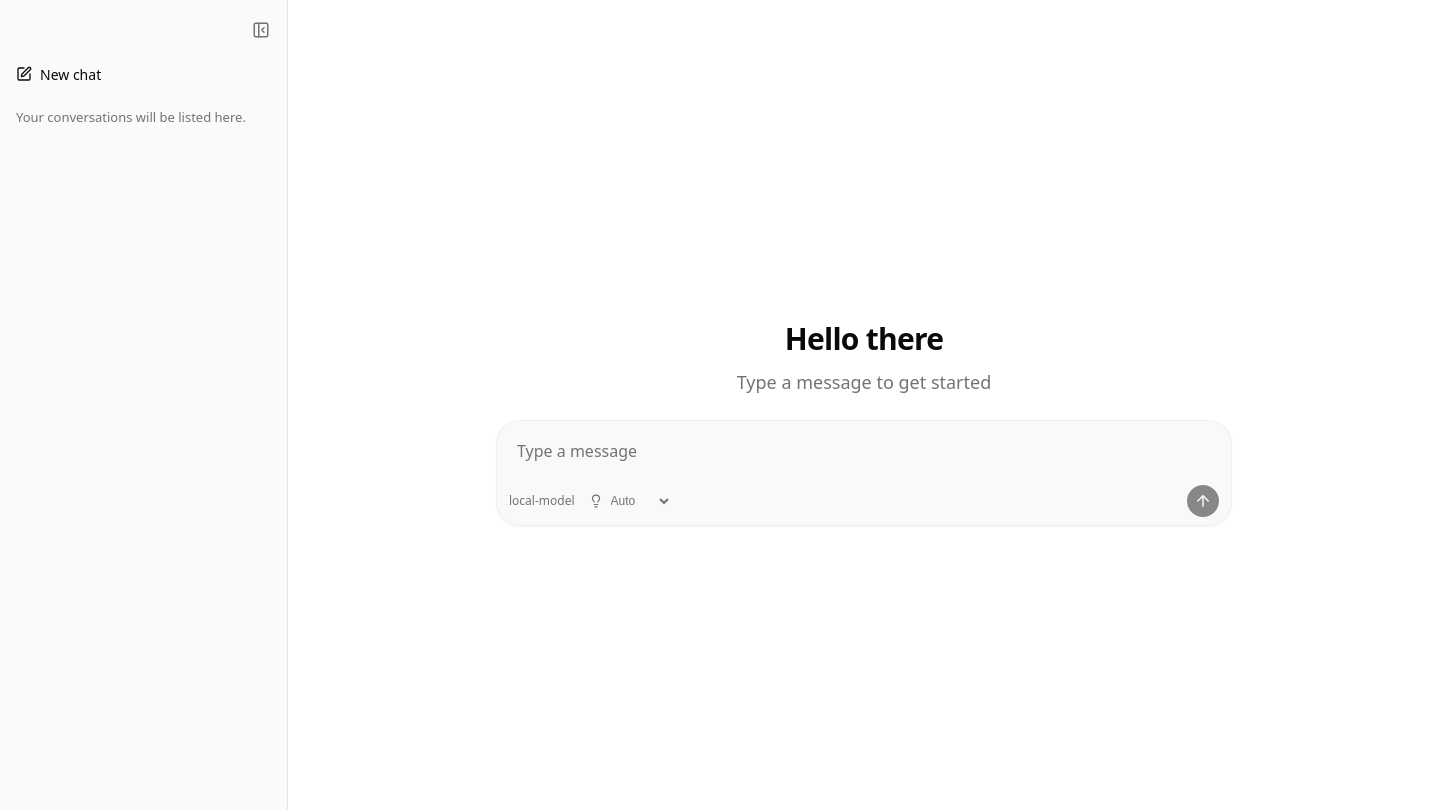
stopping keeps what was written, and says nothing was stored
Expected: the link "New chat" is shown, 16,64 -> 101,84
Type "Tell me a story" into the text box labelled "message". click: [864, 457]
box: 509,433 -> 1219,481
Then press Enter
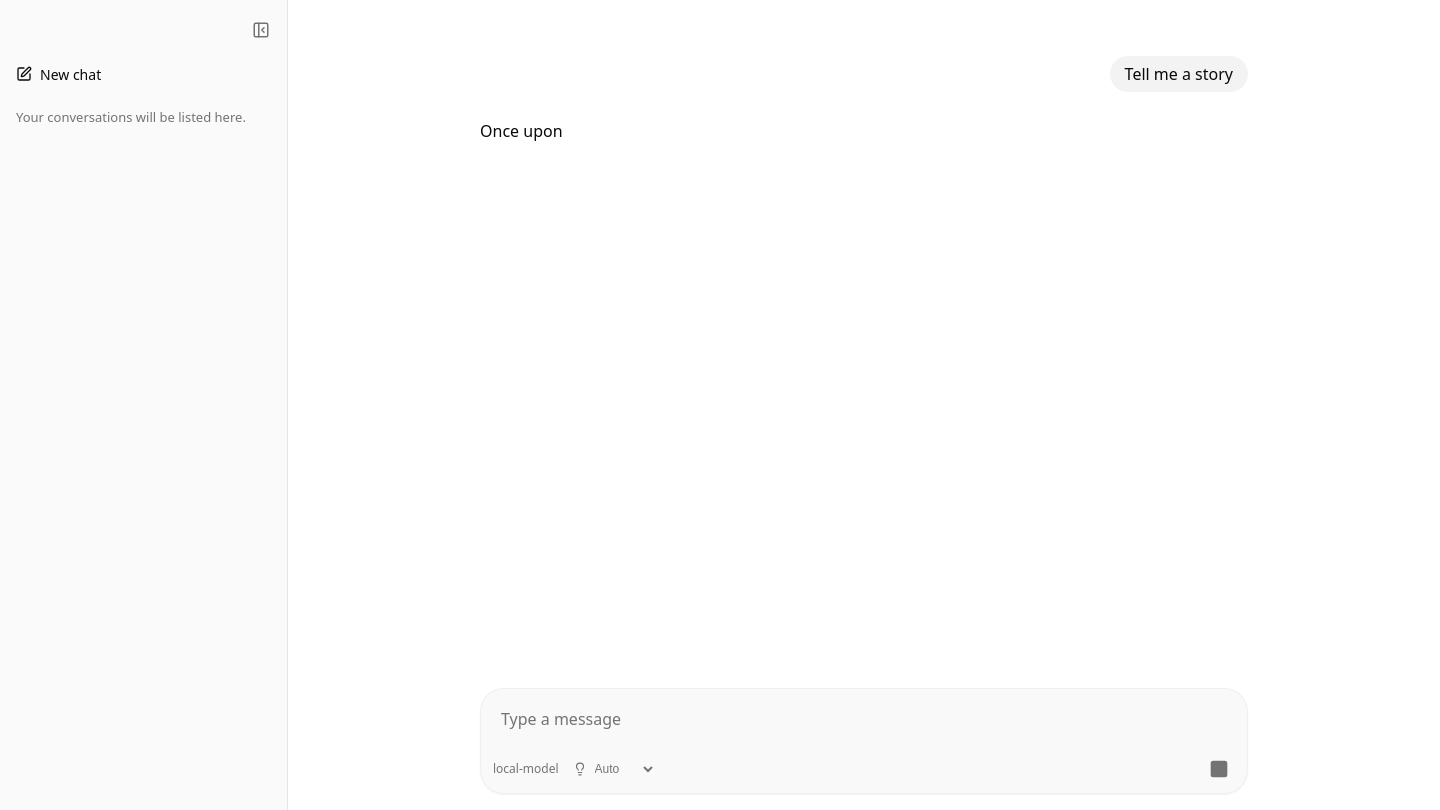
Expected: the text "Once upon" is shown, 480,120 -> 562,142
Click the button named "Stop". click: [1219, 769]
box: 1203,753 -> 1235,785
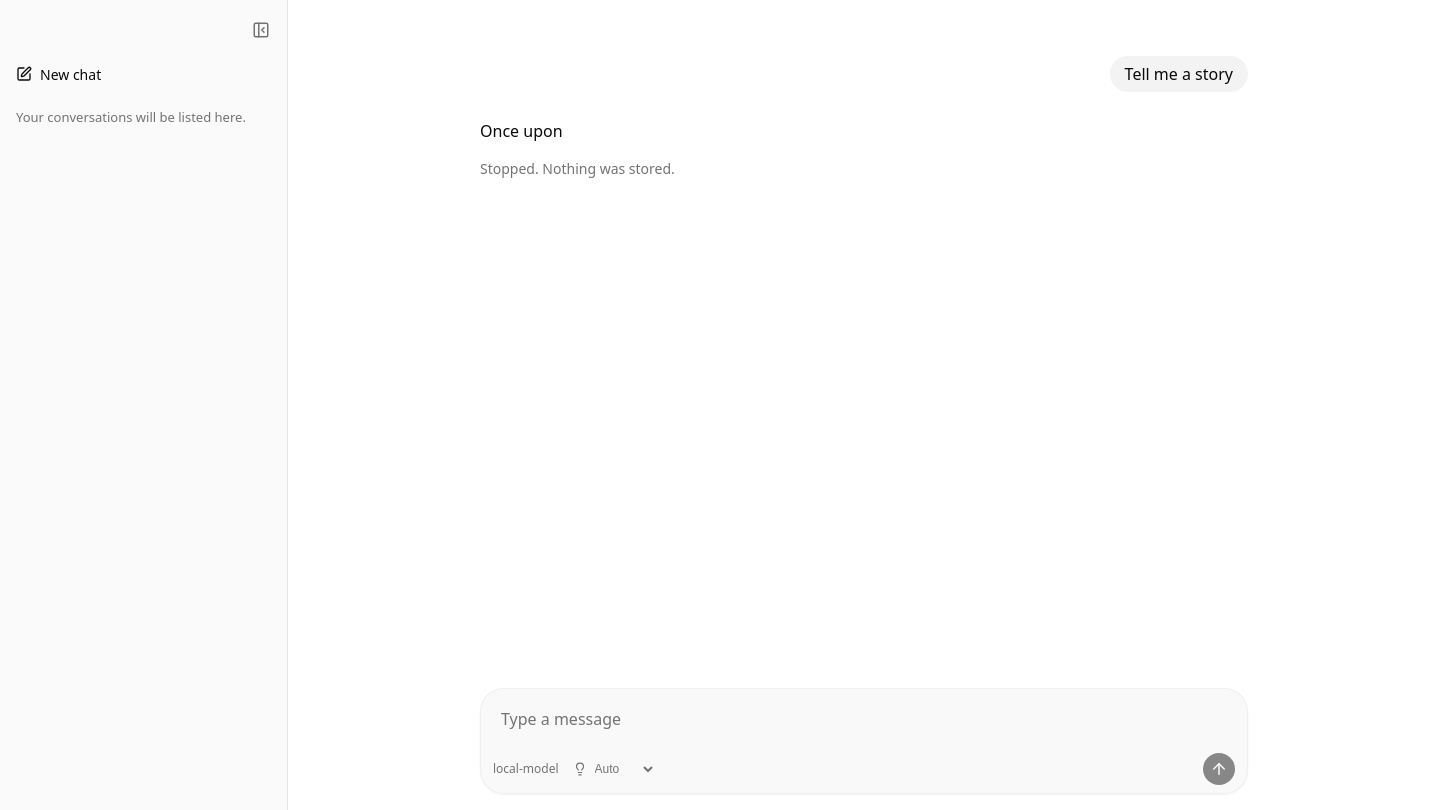
Expected: the text "Once upon" is shown, 480,120 -> 562,142
Expected: the text "Stopped. Nothing was stored." is shown, 480,159 -> 675,178
